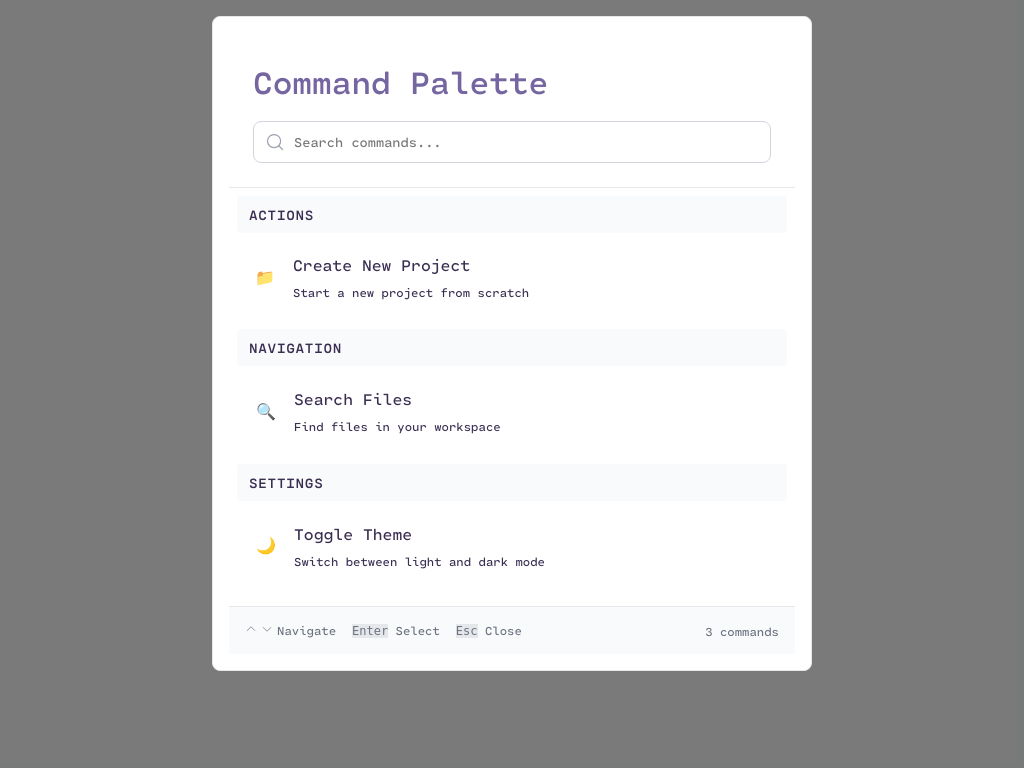
Test: CommandPalette › filters commands based on search query
Type "project" into the field with placeholder "Search commands...". click: x=512, y=142
box: 253,121 -> 771,163
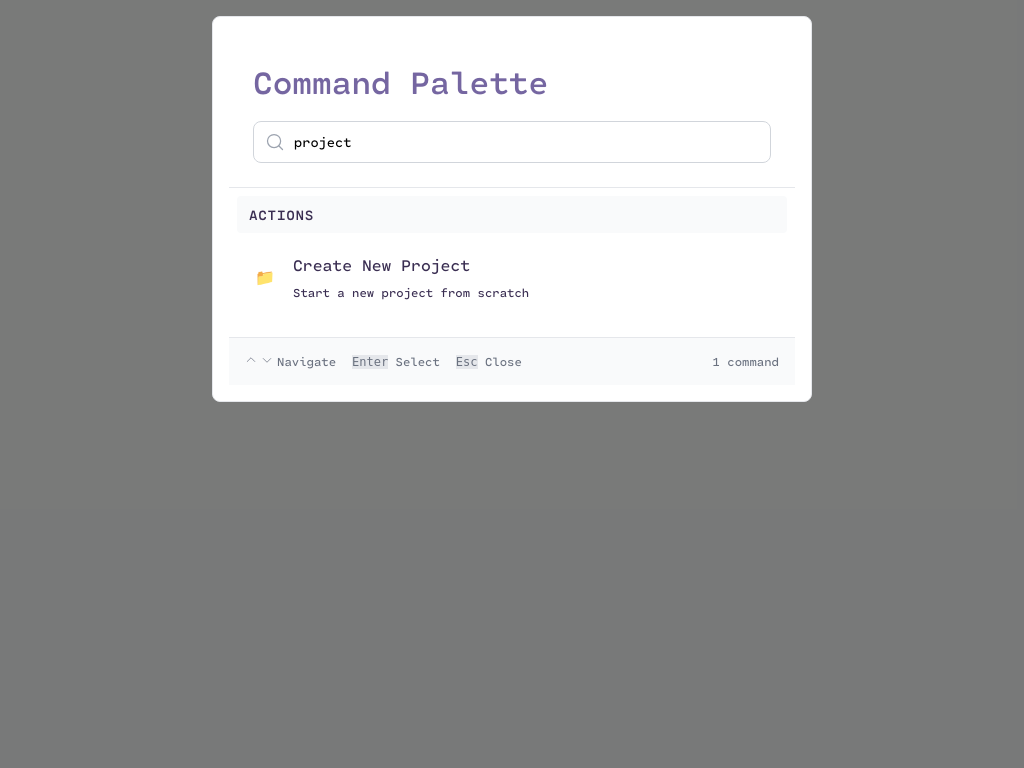
Expected: the text "Create New Project" is shown, 293,255 -> 470,274
Now the text "Search Files" is gone
Now the text "Toggle Theme" is gone
